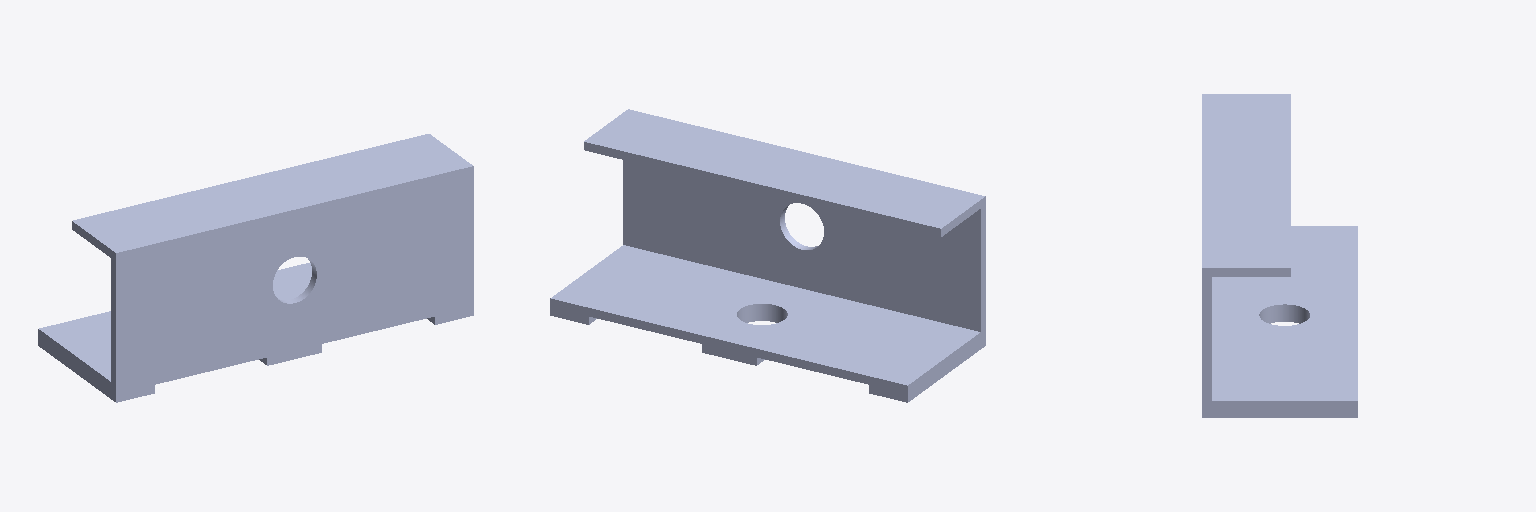
File: Union_Organo_terminal_sujetador.obj
3 views of the same model, side by side, from view 1: azimuth 30°, elevation 25°; view 2: azimuth 150°, elevation 25°; view 3: azimuth 270°, elevation 25° (orthographic).
Visible parts, largest first — view 1: Cut_Extrude2; view 2: Cut_Extrude2; view 3: Cut_Extrude2.
Part boxes in pixels (left/top/right/bottom): Cut_Extrude2: left=38, top=134, right=473, bottom=402; Cut_Extrude2: left=550, top=109, right=985, bottom=402; Cut_Extrude2: left=1202, top=94, right=1357, bottom=417.
Bounding box in the file's own units: 25.59 × 10.24 × 9.65.